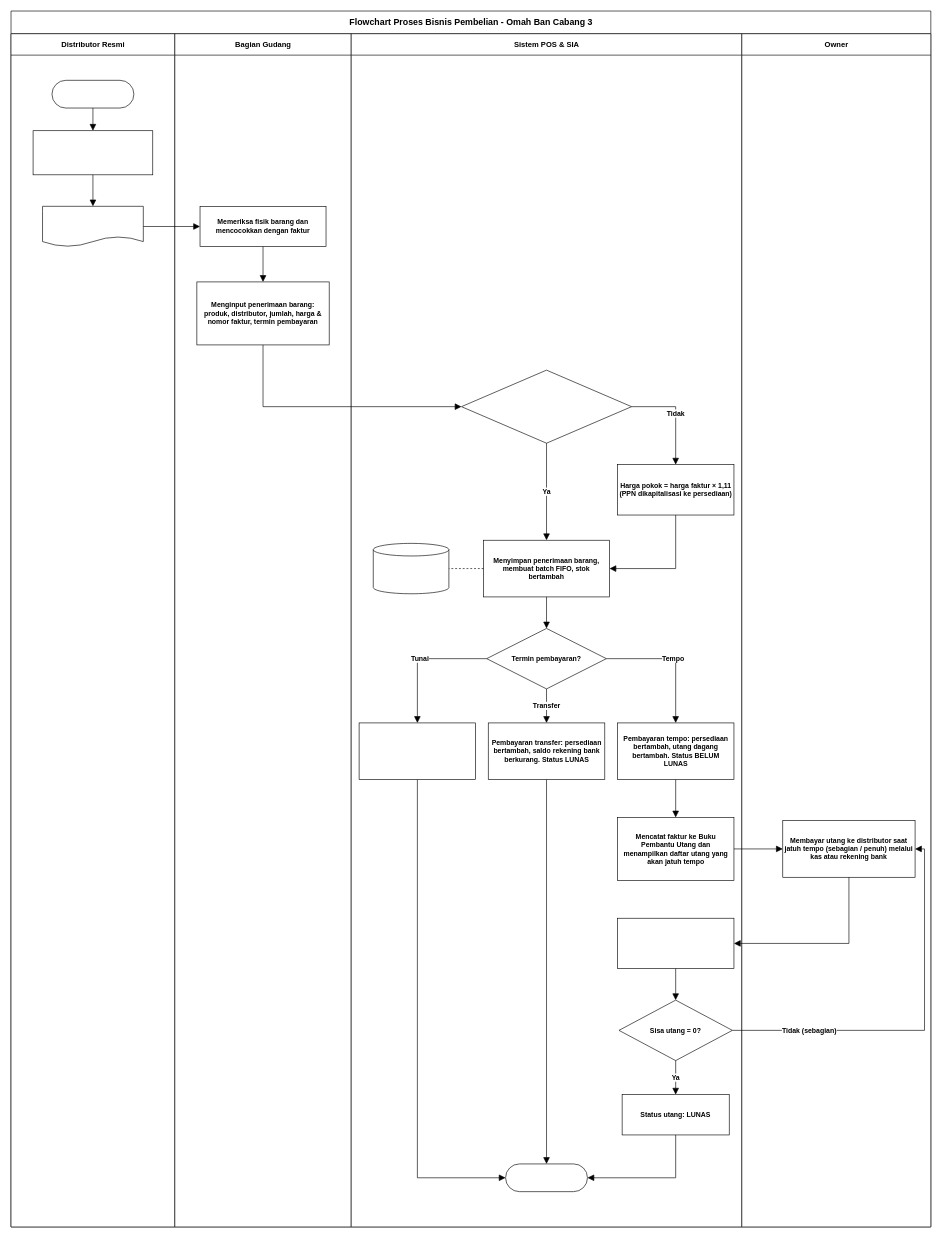
Some shapes in this 942 by 1238 pixel diagram are drawn without their labels. The shapes that lost their labels are listed below. From the top down, each one's centre as x and y in pixels, then its label:
At [92,94]: "Mulai".
At [92,152]: "Mengirim barang beserta faktur pembelian".
At [92,226]: "Faktur Pembelian".
At [546,406]: "Harga faktur sudah termasuk PPN 11%?".
At [411,568]: "Database Pembelian & Persediaan".
At [417,751]: "Pembayaran tunai: persediaan bertambah, kas berkurang. Status LUNAS".
At [675,943]: "Mencatat pembayaran utang: utang dagang berkurang, kas / bank berkurang".
At [546,1177]: "Selesai".
